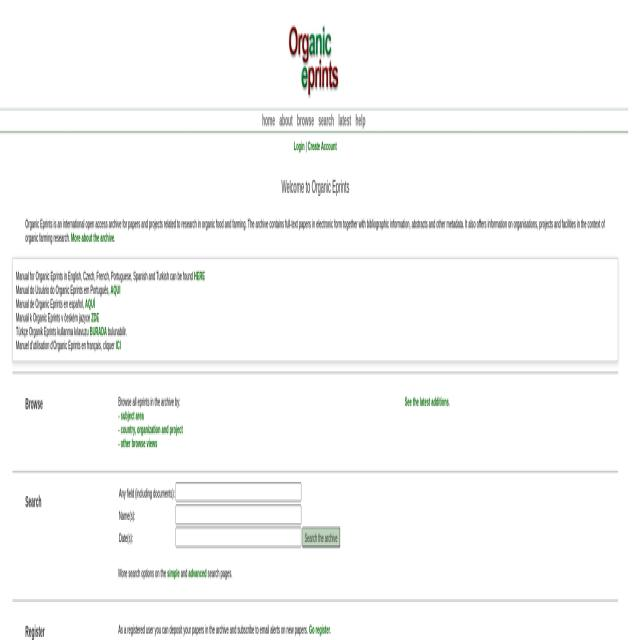button: (287, 0, 343, 106), (303, 528, 341, 547)
field: (176, 482, 302, 502), (176, 505, 302, 524), (176, 528, 302, 547)
